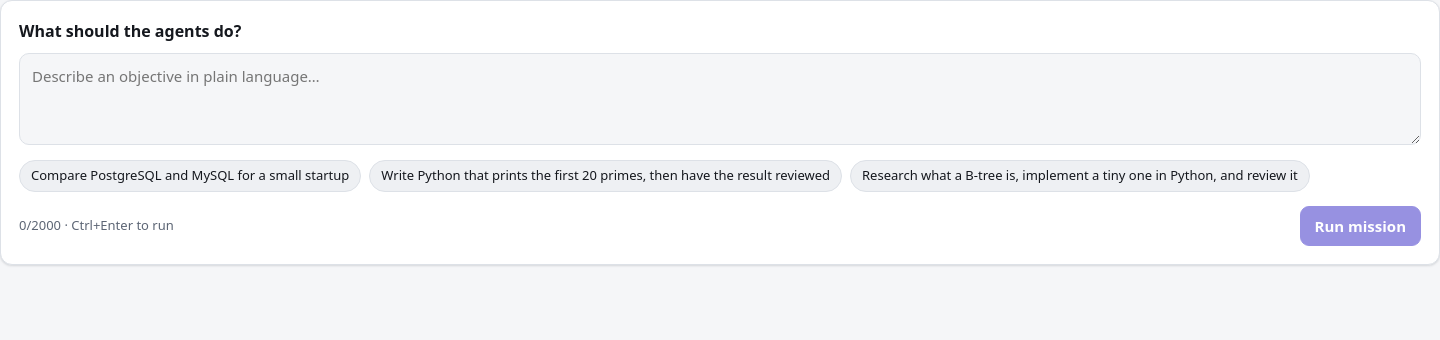
Test: NewMissionForm › shows a generic message for an unexpected error
The image size is (1440, 340).
Type "go" into the text box labelled "What should the agents do?" at (720, 99), box [19,53,1421,144]
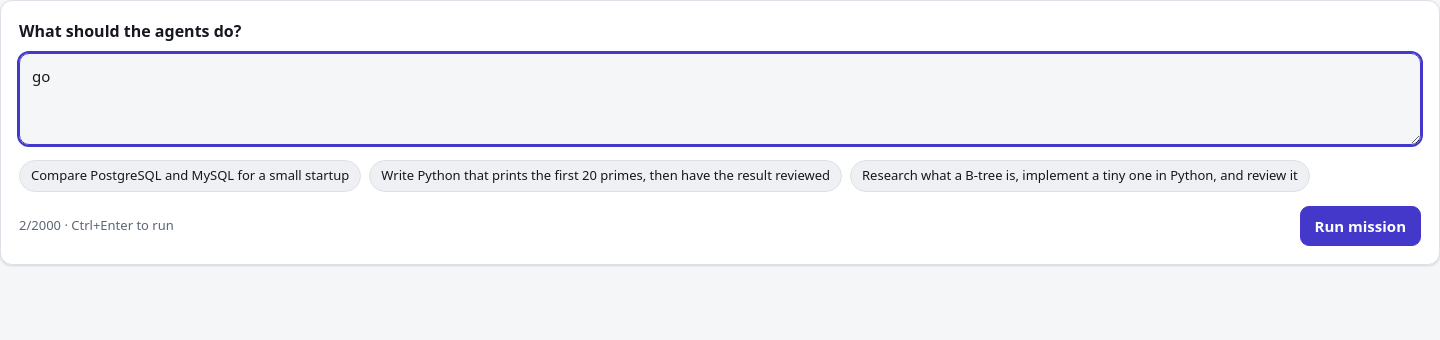
Click the button "Run mission" at (1360, 226), box [1300,206,1421,246]
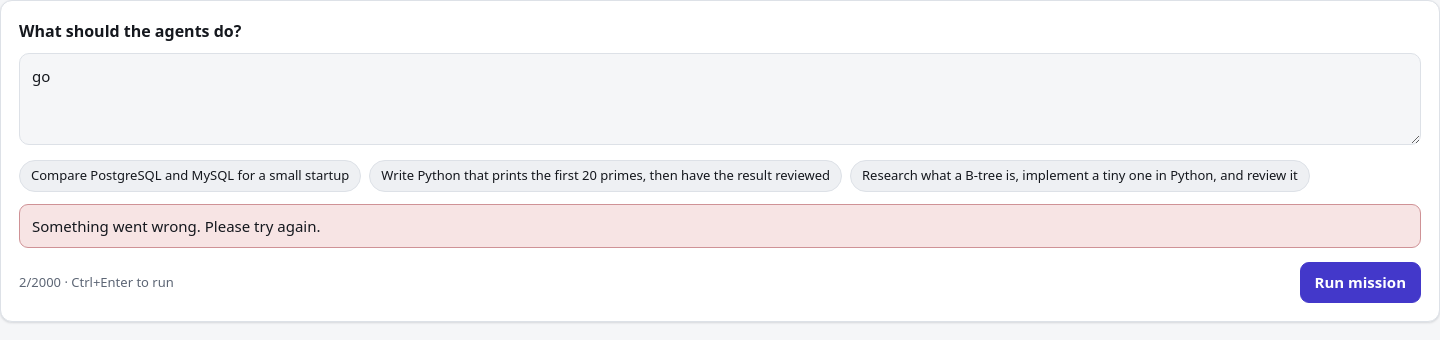
Result: the message shows "Something went wrong" at [32,216,320,236]
